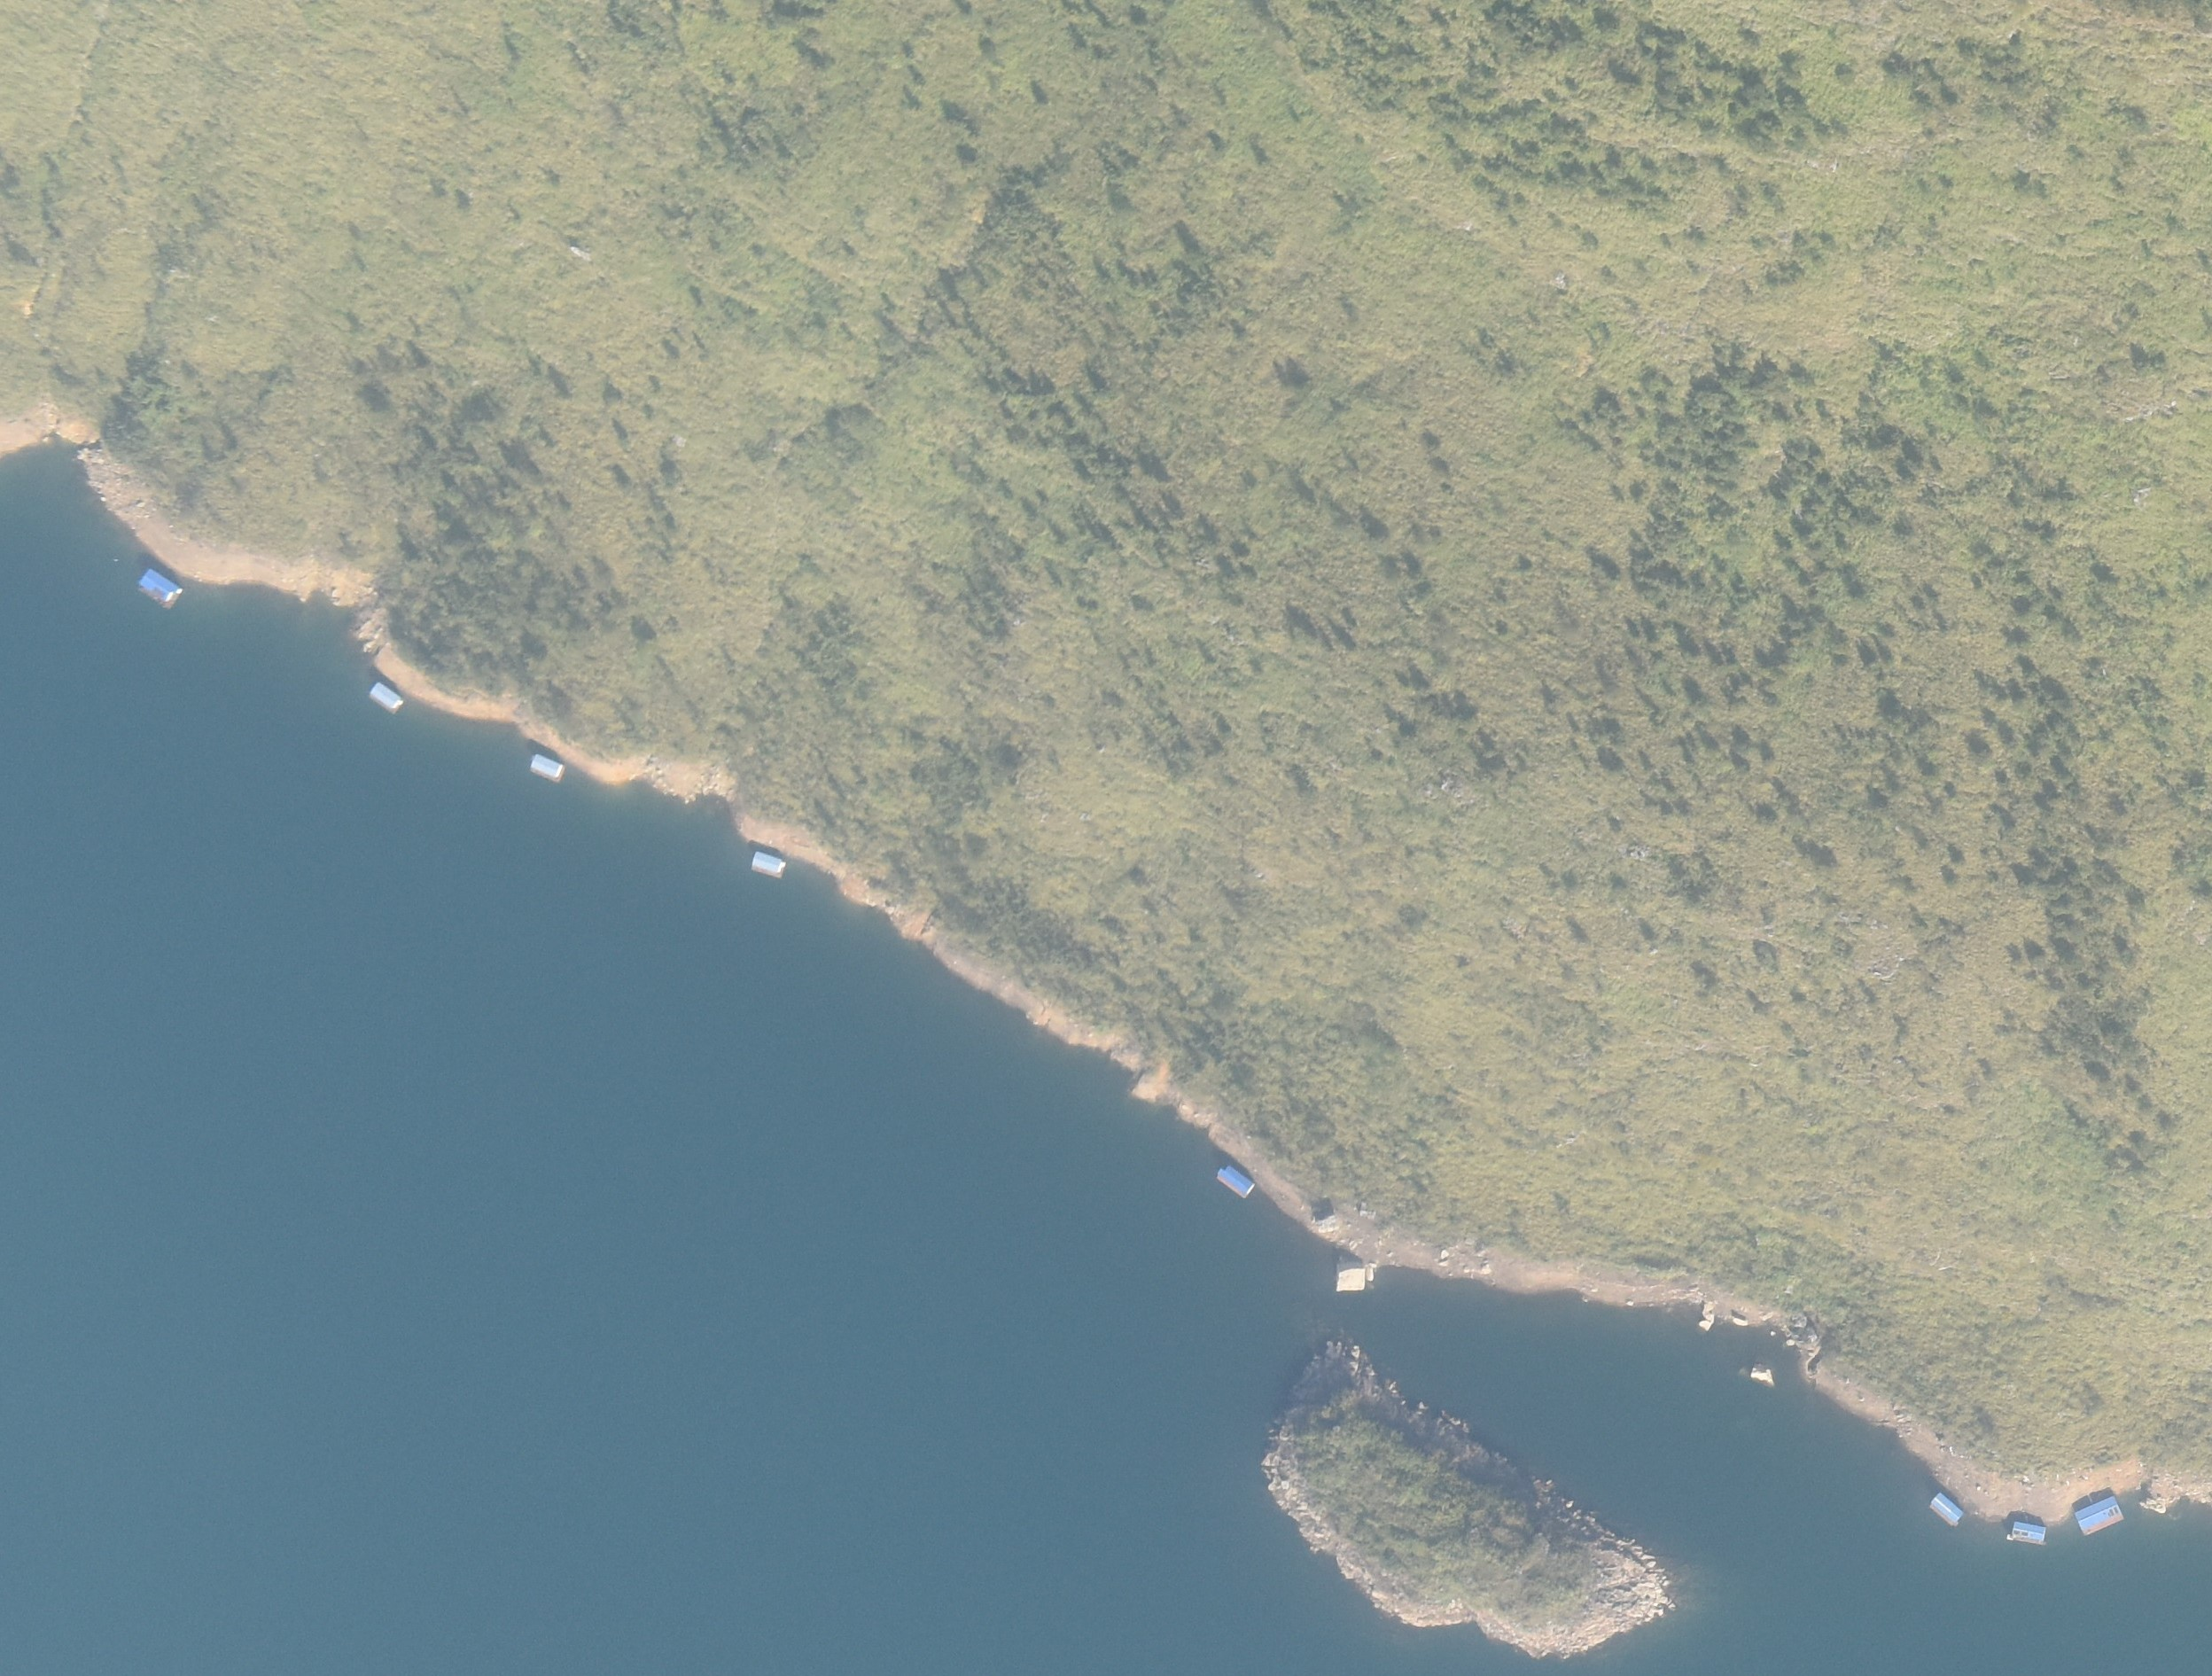prefabricated-house: (2075, 1496, 2123, 1539), (136, 569, 179, 606), (1219, 1164, 1253, 1199), (365, 681, 403, 712), (1929, 1492, 1961, 1526), (529, 753, 562, 785), (750, 853, 786, 878), (2012, 1520, 2048, 1545)
